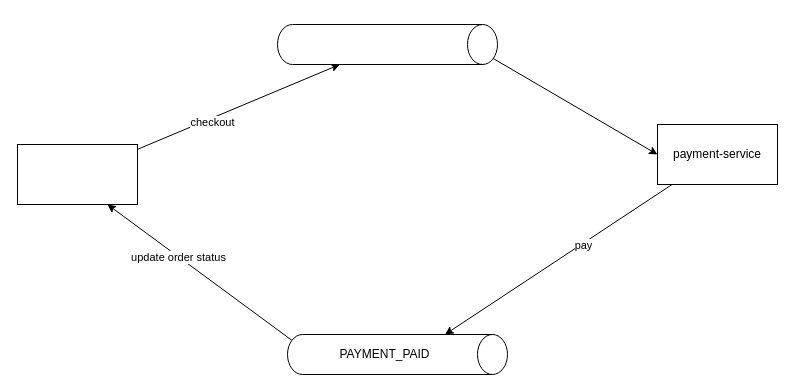
This 795x392 diagram has some shape labels left out. The centre of each missing label's shape, as x and y in pixels:
"order-service" belongs at [77,174].
"ORDER_CREATE" belongs at [387,44].
